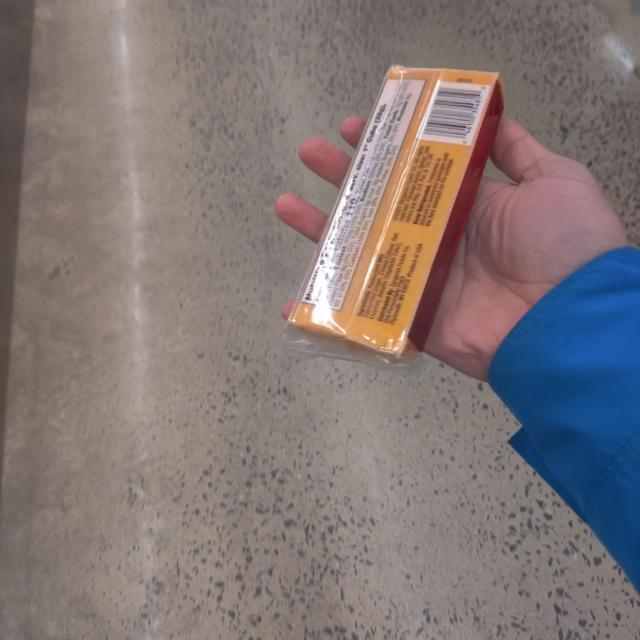Cheese: (270, 34, 524, 370)
